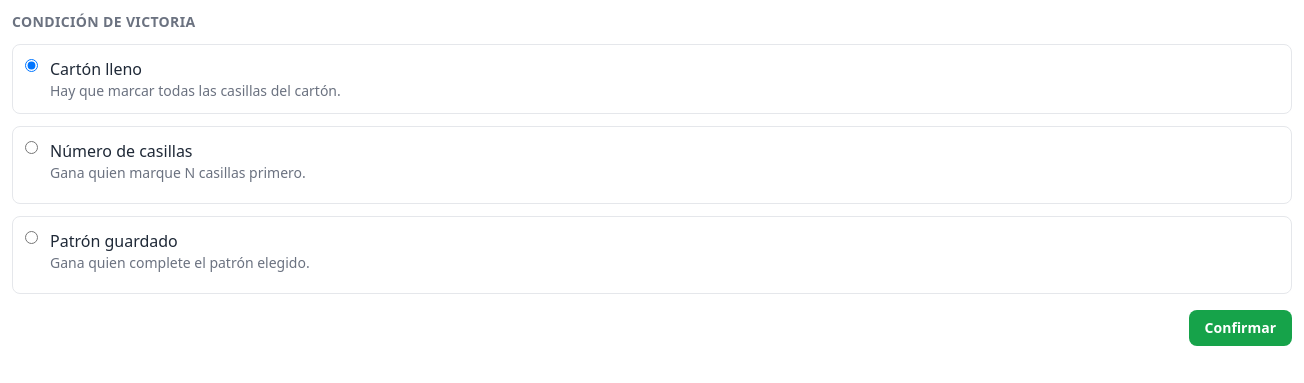
it: SelectorCondicion › flujo clásico (sin onElegirPatron) › muestra mensaje "Crea uno primero" si no hay patrones
Step 1. Click the radio button labelled "Patrón guardado Gana quien complete el patrón elegido." → coordinates (32, 238), box [25,231,38,244]
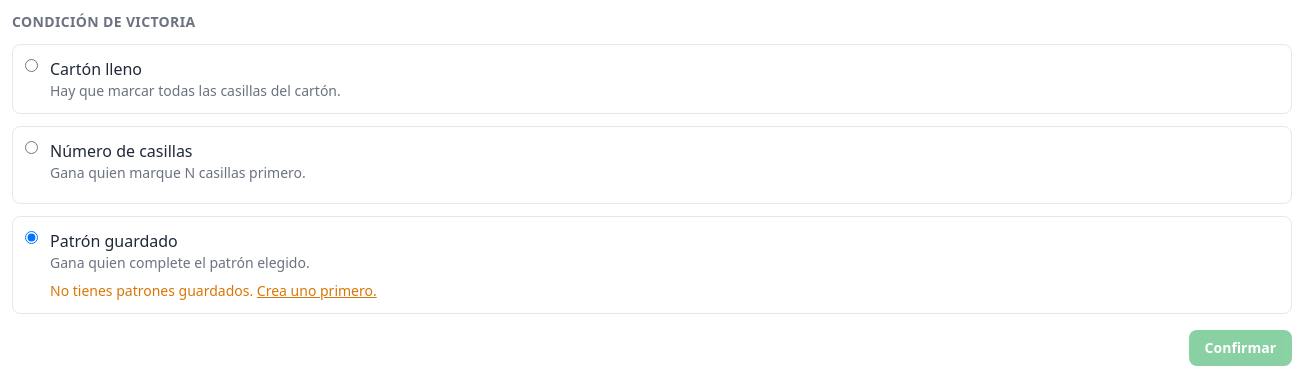
Check: the link "Crea uno primero." is shown, box [257,281,377,300]
